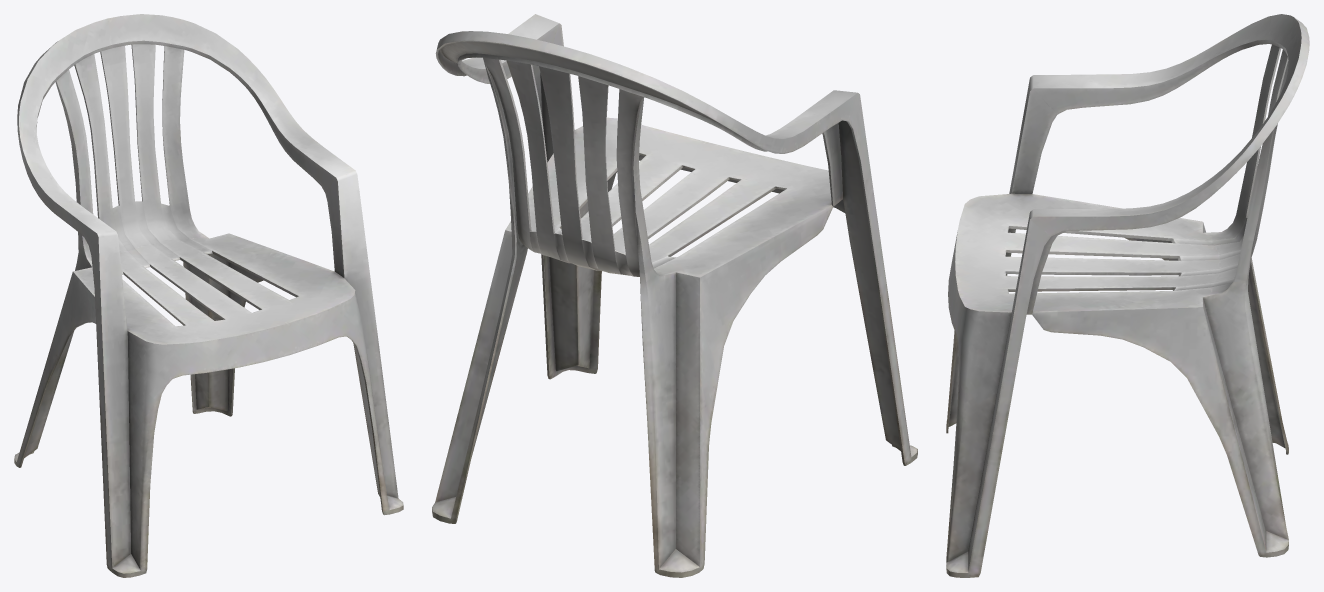
File: plastic_monobloc_chair_01.glb
3 renders of one model, left to right at view 1: azimuth 30°, elevation 25°; view 2: azimuth 150°, elevation 25°; view 3: azimuth 270°, elevation 25°, orthographic. The views are drawn at different scales.
Parts seen in each view (by area): view 1: plastic_monobloc_chair_01; view 2: plastic_monobloc_chair_01; view 3: plastic_monobloc_chair_01.
Part boxes in pixels (left/top/right/bottom): plastic_monobloc_chair_01: left=14, top=14, right=403, bottom=577; plastic_monobloc_chair_01: left=432, top=14, right=917, bottom=577; plastic_monobloc_chair_01: left=946, top=14, right=1309, bottom=577.
Bounding box in the file's own units: 0.6418 × 0.8798 × 0.6276.
Materials: 1 (1 with a texture image).
